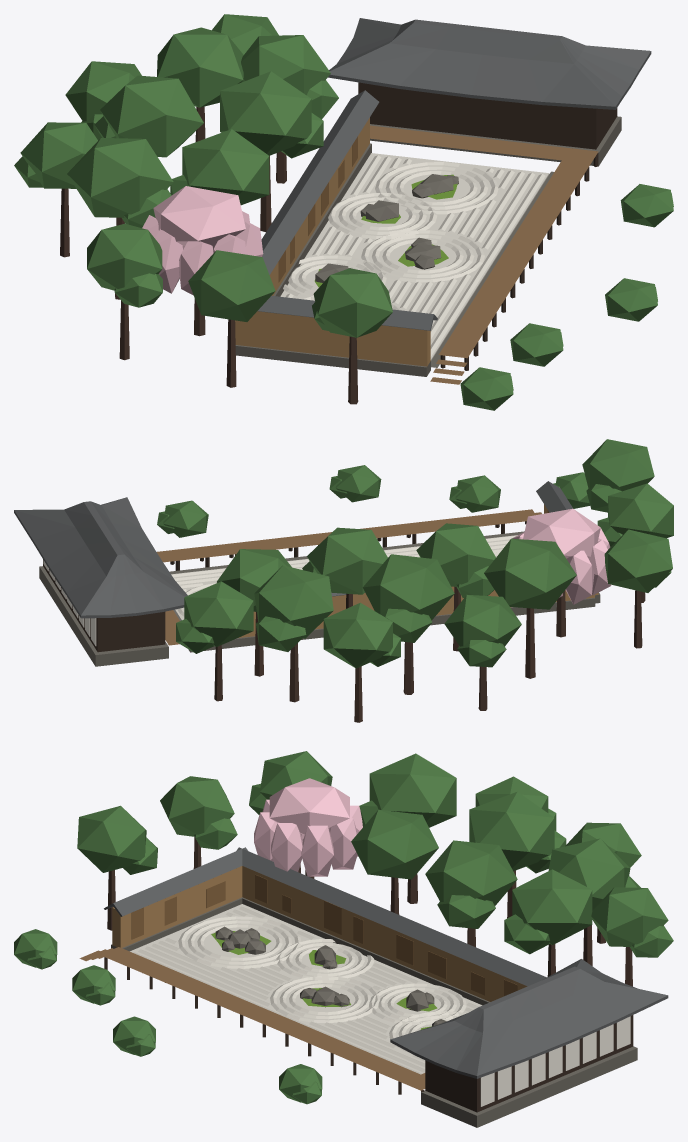
The model's file is ryoan-ji.glb.
3 renders of one model, top to bottom at view 1: azimuth 30°, elevation 25°; view 2: azimuth 150°, elevation 25°; view 3: azimuth 270°, elevation 25°, orthographic. The views are drawn at different scales.
Parts seen in each view (by area): view 1: ryoan_leaf, ryoan_tile, ryoan_gravel, ryoan_darkwood, ryoan_wood, ryoan_rock, ryoan_wall, ryoan_blossom, ryoan_bark, ryoan_wallstain, ryoan_moss; view 2: ryoan_leaf, ryoan_tile, ryoan_bark, ryoan_blossom, ryoan_wood, ryoan_rock, ryoan_darkwood, ryoan_gravel, ryoan_wall, ryoan_white; view 3: ryoan_leaf, ryoan_tile, ryoan_gravel, ryoan_wall, ryoan_rock, ryoan_blossom, ryoan_wood, ryoan_darkwood, ryoan_white, ryoan_wallstain, ryoan_bark, ryoan_moss.
Boxes of the visible parts, box(x1,y1,x2,y2) form: ryoan_leaf: box(14, 14, 673, 410); ryoan_tile: box(257, 18, 651, 330); ryoan_gravel: box(280, 153, 549, 360); ryoan_darkwood: box(358, 82, 617, 370); ryoan_wood: box(369, 125, 598, 384); ryoan_rock: box(235, 116, 621, 376); ryoan_wall: box(235, 117, 430, 366); ryoan_blossom: box(142, 186, 263, 295); ryoan_bark: box(60, 106, 358, 404); ryoan_wallstain: box(278, 136, 357, 282); ryoan_moss: box(314, 174, 457, 287); ryoan_leaf: box(157, 439, 673, 668); ryoan_tile: box(14, 481, 573, 618); ryoan_bark: box(214, 586, 645, 722); ryoan_blossom: box(512, 508, 611, 604); ryoan_wood: box(156, 509, 541, 645); ryoan_rock: box(39, 531, 600, 666); ryoan_darkwood: box(43, 521, 526, 652); ryoan_gravel: box(171, 535, 517, 620); ryoan_wall: box(238, 504, 598, 637); ryoan_white: box(43, 560, 96, 645); ryoan_leaf: box(14, 751, 673, 1104); ryoan_tile: box(104, 847, 668, 1078); ryoan_gravel: box(130, 904, 482, 1074); ryoan_wall: box(112, 866, 527, 1001); ryoan_rock: box(111, 897, 637, 1127); ryoan_blossom: box(254, 778, 362, 876); ryoan_wood: box(79, 947, 425, 1090); ryoan_darkwood: box(104, 957, 633, 1112); ryoan_white: box(480, 1016, 630, 1106); ryoan_wallstain: box(131, 874, 517, 996); ryoan_bark: box(107, 837, 632, 986); ryoan_moss: box(211, 931, 437, 1029).
Size of the model in its own units: 21.72 by 4.79 by 20.77.
